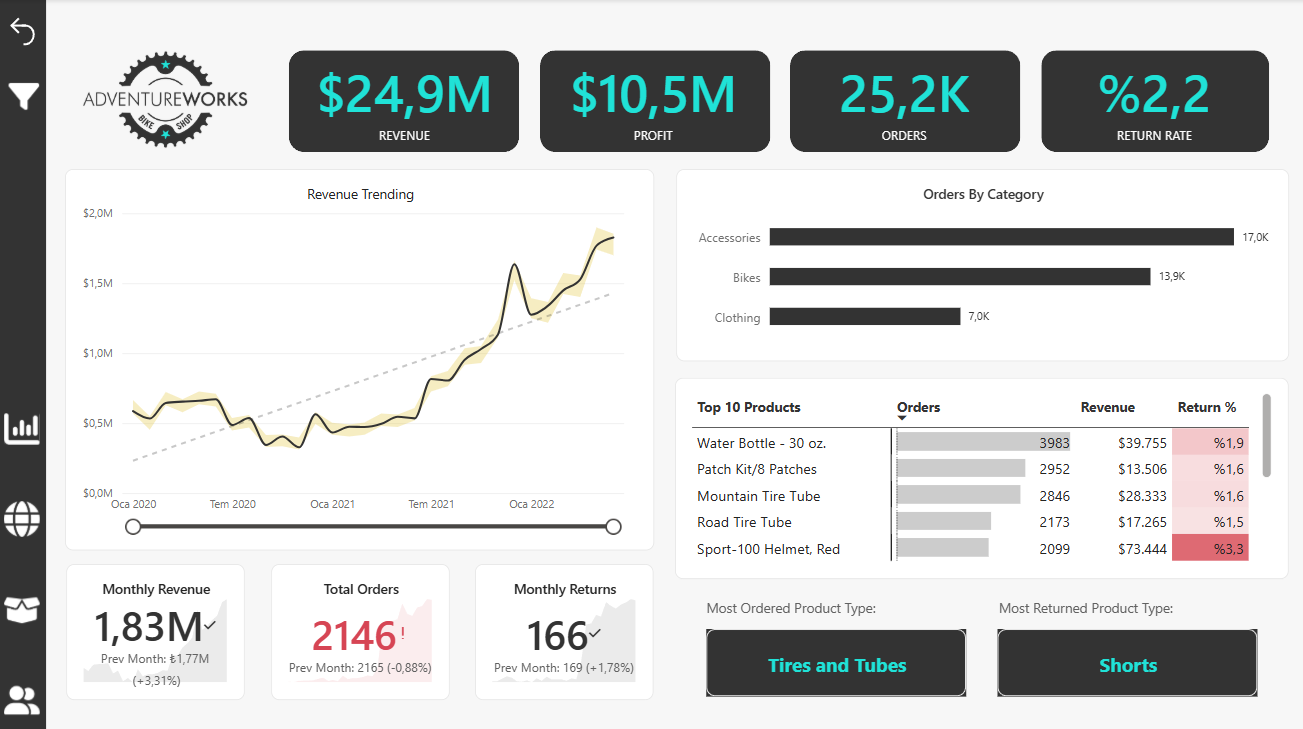

This screenshot's page, from the dashboard's own definition file:
{"tool":"powerbi","page":{"name":"Exec Dashboard","canvas":[1280,720],"ordinal":0},"visuals":[{"type":"shape","title":"Left Nav Background","box":[0,0,45.2,1081],"z":0},{"type":"cardVisual","fields":{"Data":["Measure Table.Total Revenue"]},"box":[264.9,14.2,264.9,168.9],"z":0,"group":"g2"},{"type":"shape","box":[283.3,50,226.2,100],"z":0,"group":"g1"},{"type":"group","id":"g1","title":"KPI Backgrounds","box":[283.3,50,961.9,100],"z":0,"group":"g3"},{"type":"actionButton","box":[0,390,46,64],"z":0,"group":"g4"},{"type":"group","id":"g2","title":"KPI Values","box":[264.9,14.2,1000.9,168.9],"z":1000,"group":"g3"},{"type":"cardVisual","fields":{"Data":["Measure Table.Total Profit"]},"box":[509.6,14.2,264.9,168.9],"z":1000,"group":"g2"},{"type":"image","title":"AW Logo","box":[64.3,31,197.6,135.7],"z":1000},{"type":"shape","box":[529.3,50,226.2,100],"z":1000,"group":"g1"},{"type":"actionButton","box":[0,478.7,46,64],"z":1000,"group":"g4"},{"type":"group","id":"g3","title":"KPIs","box":[264.9,14.2,1000.9,168.9],"z":2000},{"type":"cardVisual","fields":{"Data":["Measure Table.Total Orders"]},"box":[754.4,14.2,266.7,168.9],"z":2000,"group":"g2"},{"type":"shape","box":[1021.4,50,223.8,100],"z":2000,"group":"g1"},{"type":"actionButton","box":[0,567.3,46,64],"z":2000,"group":"g4"},{"type":"cardVisual","fields":{"Data":["Measure Table.Return Rate"]},"box":[1000.9,14.2,264.9,168.9],"z":3000,"group":"g2"},{"type":"shape","box":[775.4,50,226.2,100],"z":3000,"group":"g1"},{"type":"lineChart","title":"Revenue Trending","fields":{"Category":["Calendar Lookup.Start of Month"],"Y":["Measure Table.Total Revenue"]},"box":[64.3,167.1,578.6,374.3],"z":3000},{"type":"actionButton","box":[0,656,46,64],"z":3000,"group":"g4"},{"type":"kpi","title":"Monthly Revenue","fields":{"Goal":["Measure Table.Previous Month Revenue"],"Indicator":["Measure Table.Total Revenue"],"TrendLine":["Calendar Lookup.Start of Month"]},"box":[65,555,175,133.3],"z":4000},{"type":"kpi","title":"Total Orders","fields":{"Goal":["Measure Table.Previous Month Orders"],"Indicator":["Measure Table.Total Orders"],"TrendLine":["Calendar Lookup.Start of Month"]},"box":[265.8,555,175,133.3],"z":5000},{"type":"kpi","title":"Monthly Returns","fields":{"Goal":["Measure Table.Previous Month Returns"],"Indicator":["Measure Table.Total Returns"],"TrendLine":["Calendar Lookup.Start of Month"]},"box":[466.7,555,175,133.3],"z":6000},{"type":"clusteredBarChart","title":"Orders By Category","fields":{"Category":["Product Categories Lookup.CategoryName"],"Y":["Measure Table.Total Orders"]},"box":[664.3,167.1,601.4,188.6],"z":7000},{"type":"pivotTable","fields":{"Rows":["Product Lookup.ProductName"],"Values":["Measure Table.Total Orders","Measure Table.Total Revenue","Measure Table.Return Rate"]},"box":[662.2,372.3,602.5,197.5],"z":8000},{"type":"cardVisual","fields":{"Data":["Min(Product Subcategories Lookup.SubcategoryName)"]},"box":[693.7,619,255,66.7],"z":9000},{"type":"cardVisual","fields":{"Data":["Min(Product Subcategories Lookup.SubcategoryName)"]},"box":[979.7,618.3,255,66.7],"z":10000},{"type":"textbox","box":[980.2,588.1,255.1,28.8],"z":11000},{"type":"textbox","box":[693.3,588.1,255.1,30.3],"z":12000},{"type":"actionButton","box":[0,0,44.7,63.4],"z":13000},{"type":"group","id":"g4","title":"Navigation Buttons","box":[0,390,46,330],"z":14000},{"type":"actionButton","box":[1.4,63.4,44.7,63.4],"z":15000}]}

Visuals, with their boxes on the page's 1280x720 design canvas (x1, y1, x2, y2). These are canvas units, not pixel positions in the 1303x729 screenshot, which may show the page scaled, cropped or inside an application window:
"Left Nav Background" shape: (0, 0, 45, 1081)
cardVisual - Measure Table.Total Revenue: (265, 14, 530, 183)
shape: (283, 50, 510, 150)
"KPI Backgrounds" group: (283, 50, 1245, 150)
actionButton: (0, 390, 46, 454)
"KPI Values" group: (265, 14, 1266, 183)
cardVisual - Measure Table.Total Profit: (510, 14, 774, 183)
"AW Logo" image: (64, 31, 262, 167)
shape: (529, 50, 756, 150)
actionButton: (0, 479, 46, 543)
"KPIs" group: (265, 14, 1266, 183)
cardVisual - Measure Table.Total Orders: (754, 14, 1021, 183)
shape: (1021, 50, 1245, 150)
actionButton: (0, 567, 46, 631)
cardVisual - Measure Table.Return Rate: (1001, 14, 1266, 183)
shape: (775, 50, 1002, 150)
"Revenue Trending" lineChart: (64, 167, 643, 541)
actionButton: (0, 656, 46, 720)
"Monthly Revenue" kpi: (65, 555, 240, 688)
"Total Orders" kpi: (266, 555, 441, 688)
"Monthly Returns" kpi: (467, 555, 642, 688)
"Orders By Category" clusteredBarChart: (664, 167, 1266, 356)
pivotTable - Product Lookup.ProductName x Measure Table.Total Orders: (662, 372, 1265, 570)
cardVisual - Min(Product Subcategories Lookup.SubcategoryName): (694, 619, 949, 686)
cardVisual - Min(Product Subcategories Lookup.SubcategoryName): (980, 618, 1235, 685)
textbox: (980, 588, 1235, 617)
textbox: (693, 588, 948, 618)
actionButton: (0, 0, 45, 63)
"Navigation Buttons" group: (0, 390, 46, 720)
actionButton: (1, 63, 46, 127)
